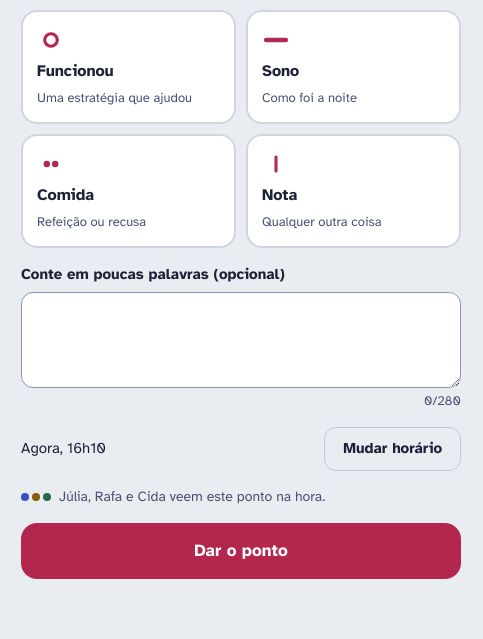
Test: sem tipo escolhido não envia
(page scrolled)
Step 1. Click the button "Dar o ponto" → {"x": 241, "y": 551}, box [21,523,461,579]
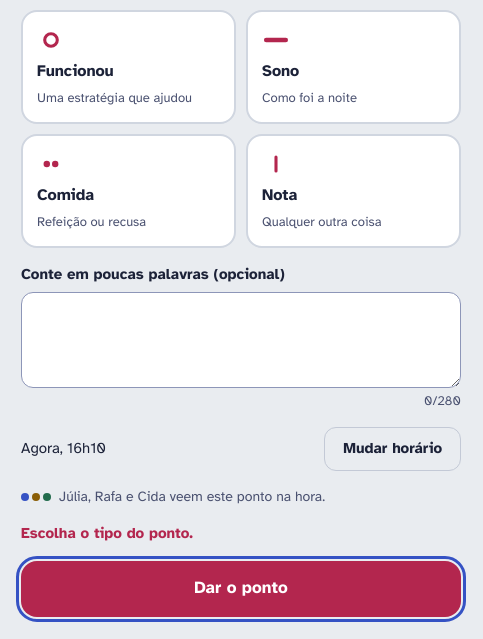
Expected: the text "Escolha o tipo do ponto." is shown, [21,524,193,542]
